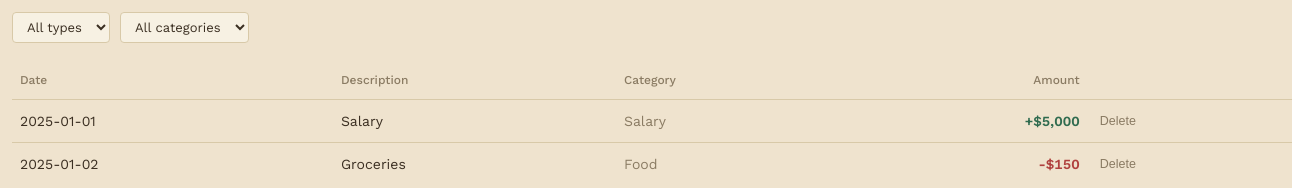
TransactionList › filters by category
The image size is (1292, 188).
Select "food" in the dropdown named "Filter by category" at (184, 28), box [120,12,249,43]
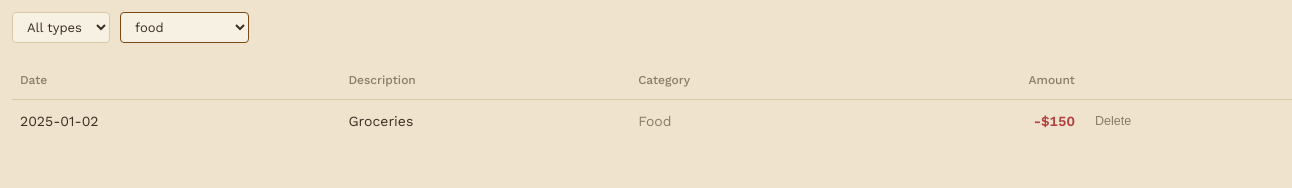
Check: the text "Groceries" is shown, box [340,100,630,142]
Check: the text "Salary" is gone
